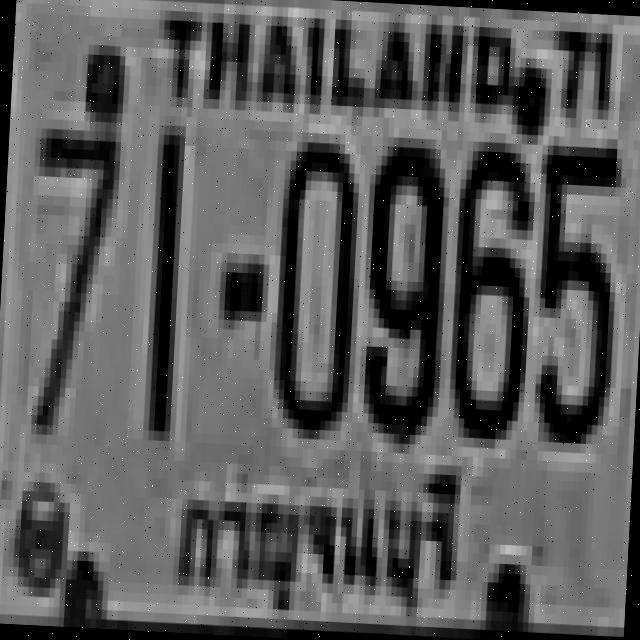0: (266, 132, 356, 431)
1: (138, 125, 180, 431)
5: (528, 136, 618, 434)
6: (443, 131, 533, 430)
7: (20, 119, 116, 428)
9: (357, 137, 447, 436)
Kanchanaburi: (156, 453, 469, 619)
